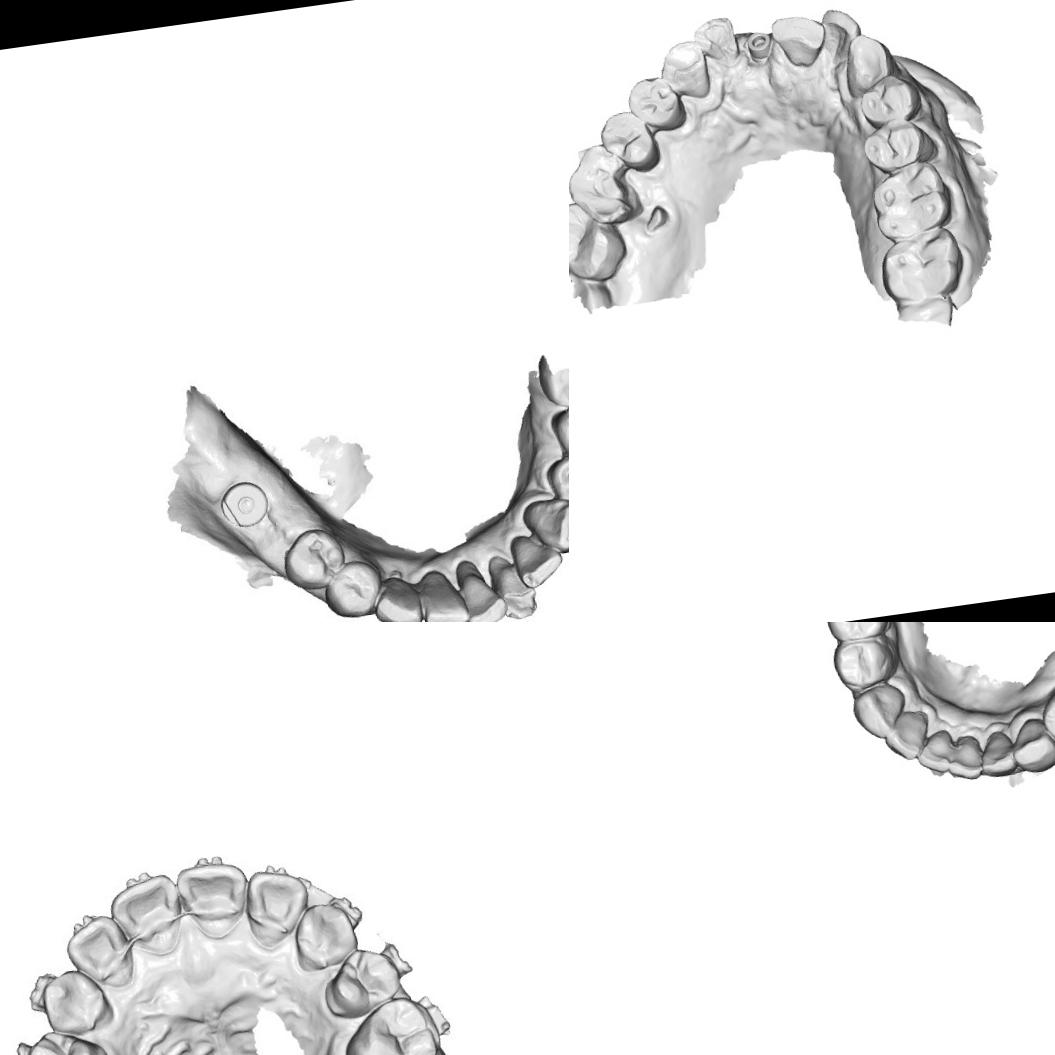canine: (286, 894, 365, 977), (37, 968, 114, 1040), (839, 28, 904, 100), (847, 680, 911, 744), (656, 38, 712, 102), (520, 490, 569, 555), (368, 569, 427, 622), (1007, 713, 1055, 776)
implant: (221, 468, 273, 532), (744, 30, 774, 62)
incisor: (108, 875, 184, 958), (179, 856, 251, 940), (245, 866, 314, 945), (68, 914, 132, 988), (504, 526, 566, 594), (768, 10, 831, 73), (489, 550, 539, 622), (451, 552, 500, 622), (418, 563, 472, 622), (880, 707, 934, 764), (816, 3, 866, 64), (690, 13, 741, 68), (975, 728, 1020, 782), (913, 726, 959, 776), (942, 733, 987, 782)
molar: (875, 222, 968, 306), (867, 157, 955, 244), (569, 139, 644, 230), (569, 194, 631, 288), (353, 996, 441, 1055)
premolar: (319, 948, 400, 1024), (860, 113, 938, 178), (596, 107, 663, 178), (280, 520, 345, 592), (828, 634, 902, 694), (319, 554, 383, 622), (856, 70, 925, 132), (624, 72, 689, 136), (26, 1024, 112, 1055), (543, 450, 569, 516), (545, 399, 569, 465), (823, 622, 893, 644), (1037, 680, 1055, 752)
